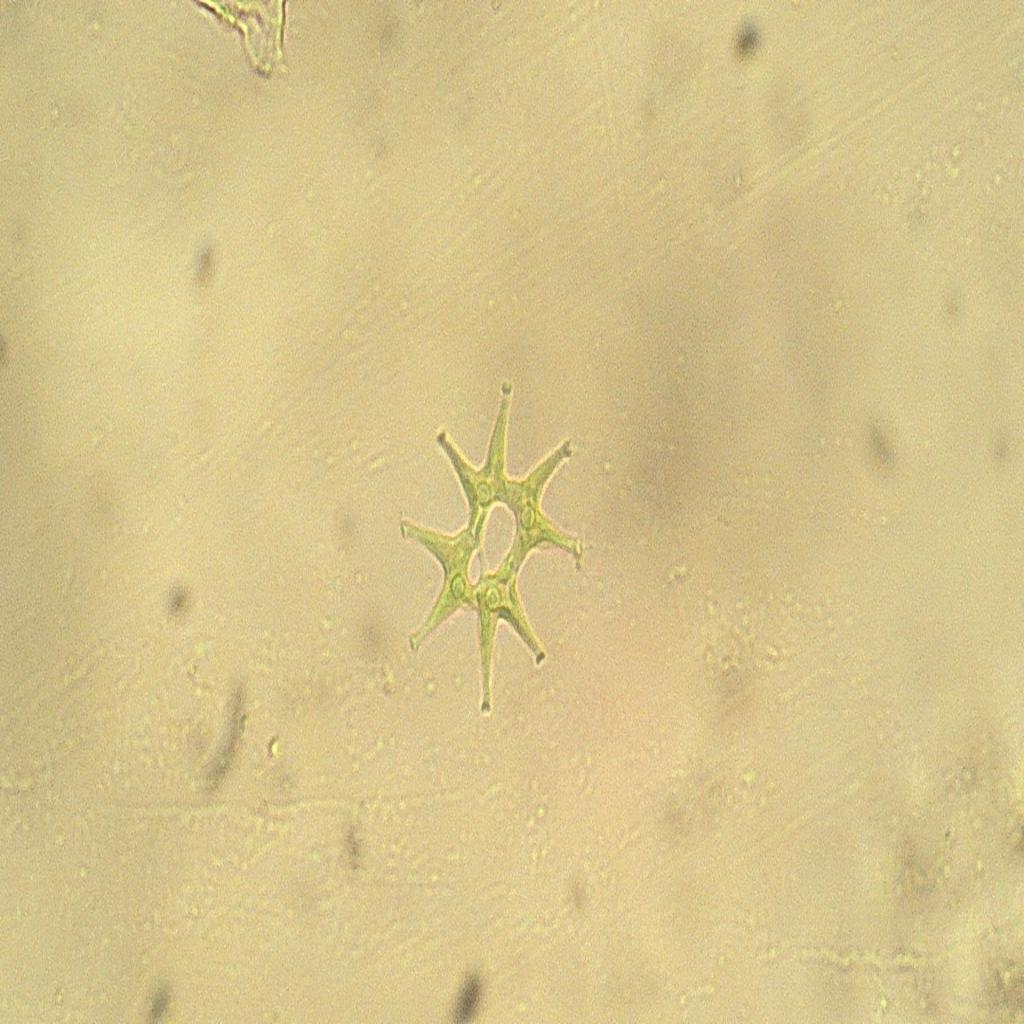Pediastrum_CF: (386, 364, 630, 728)
